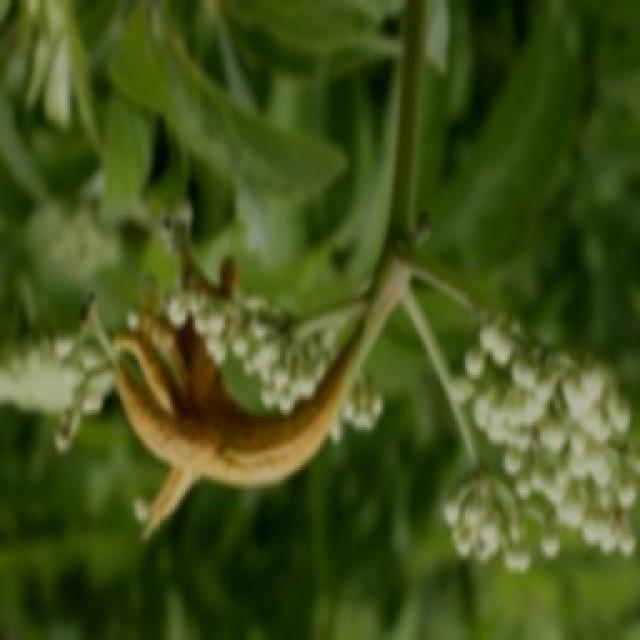Elderberry_rust: (81, 279, 408, 507)
